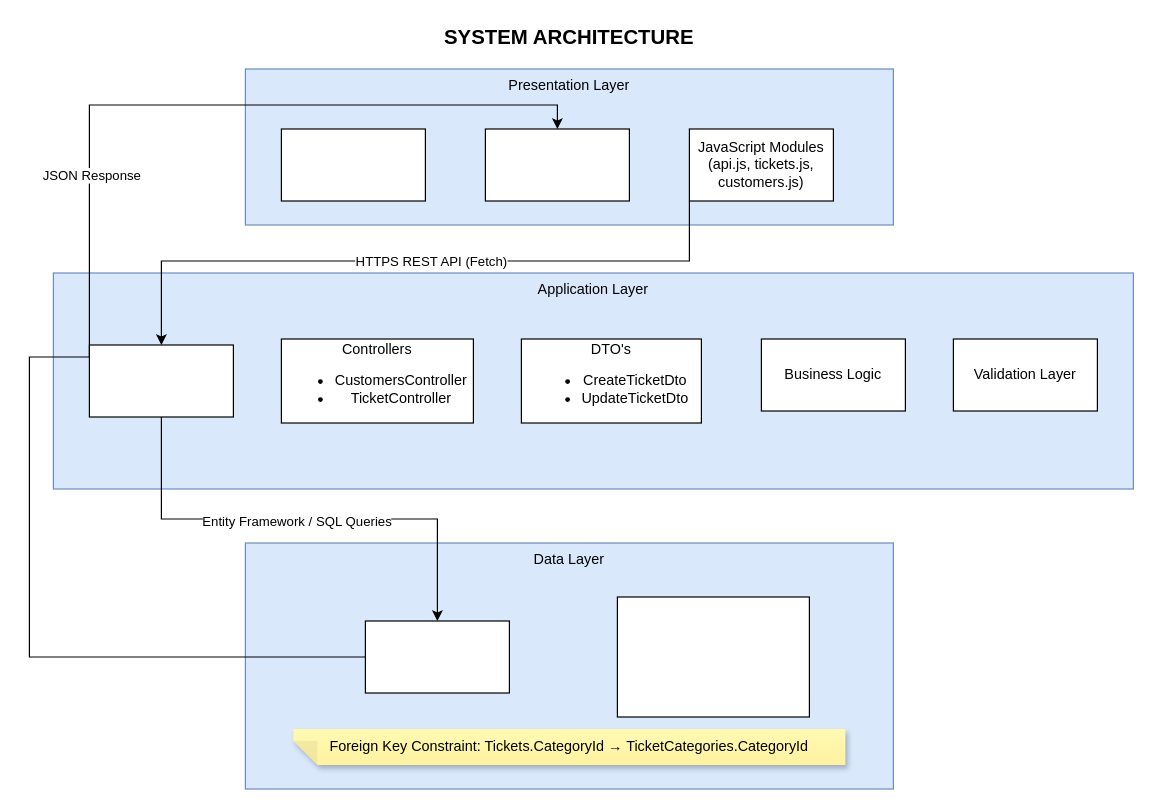
Image size: 1154x810. Some labels were removed from this diagram. The shapes that lost their labels are listed below. From the top down, each one's centre as x and y in pixels, then its label:
the point at 352,164: Web Browser (User)
the point at 556,164: HTML + CSS + Bootsrap
the point at 160,380: ASP.NET Core Web API
the point at 436,656: SQL Server
the point at 712,656: Tables Customers Tickets TicketCategories
